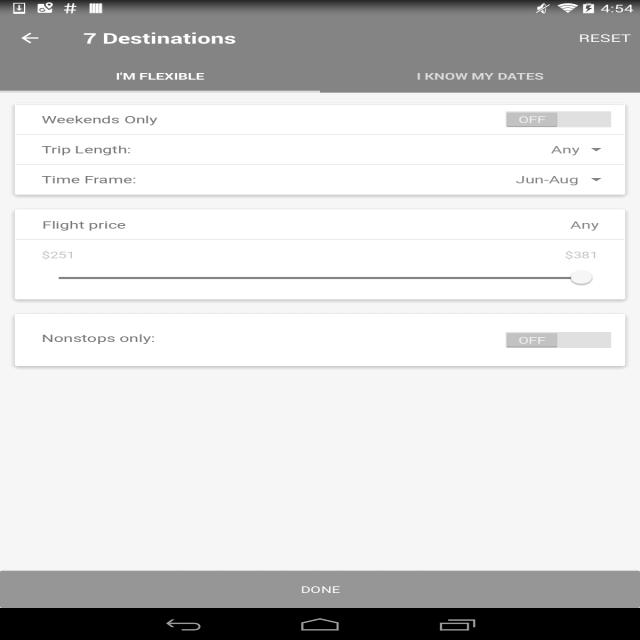Button: (0, 571, 640, 608)
ImageButton: (0, 17, 60, 59)
ImageView: (16, 104, 624, 237), (16, 244, 624, 377), (16, 384, 624, 517), (16, 524, 624, 640), (525, 104, 576, 135), (525, 244, 576, 275), (525, 384, 576, 415), (525, 524, 576, 555), (576, 107, 620, 132), (576, 247, 620, 272), (576, 387, 620, 412), (576, 527, 620, 552), (0, 90, 320, 92), (413, 68, 448, 84)
SeekBar: (41, 269, 598, 287)
Switch: (504, 110, 614, 129), (504, 331, 614, 349)
TextView: (16, 144, 624, 165), (16, 284, 624, 305), (16, 424, 624, 445), (16, 564, 624, 585), (0, 59, 320, 93), (320, 59, 640, 93), (16, 210, 151, 239), (83, 28, 236, 48), (544, 210, 624, 239), (570, 22, 640, 54), (256, 69, 414, 83), (516, 169, 613, 190), (41, 112, 158, 126), (42, 331, 155, 345), (550, 139, 614, 160), (42, 172, 136, 186), (42, 142, 131, 156), (257, 179, 334, 192), (257, 319, 334, 332), (257, 459, 334, 472), (257, 599, 334, 612), (42, 240, 75, 269), (565, 240, 598, 269), (192, 69, 255, 83), (338, 176, 383, 192), (338, 316, 383, 332), (338, 456, 383, 472), (338, 596, 383, 612)
